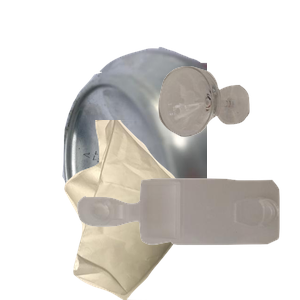glass: (156, 64, 300, 194)
metal: (60, 44, 300, 224)
plastic: (75, 176, 300, 300)
trash: (62, 120, 251, 300)
